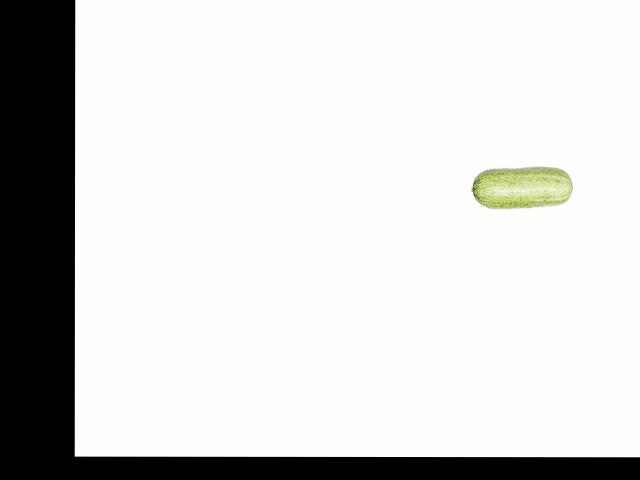cucumber: (470, 167, 572, 208)
